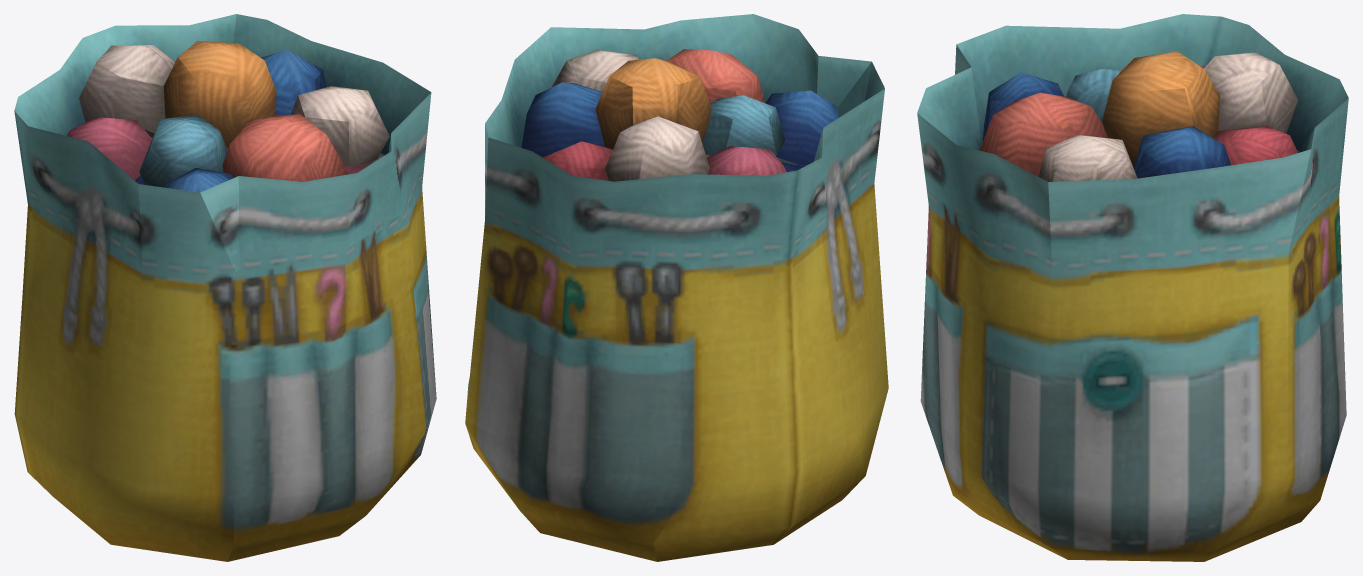
File: cestaPunto.fbx
3 renders of one model, left to right at view 1: azimuth 30°, elevation 25°; view 2: azimuth 150°, elevation 25°; view 3: azimuth 270°, elevation 25°, orthographic. The views are drawn at different scales.
Visible parts, largest first — view 1: s4studio_mesh_1; view 2: s4studio_mesh_1; view 3: s4studio_mesh_1.
Boxes of the visible parts, x1=… form: s4studio_mesh_1: x1=14, y1=14, x2=436, y2=561; s4studio_mesh_1: x1=465, y1=14, x2=888, y2=561; s4studio_mesh_1: x1=917, y1=14, x2=1348, y2=561.
Bounding box in the file's own units: 45.96 × 53.22 × 47.06.
1 material, 1 textured.
